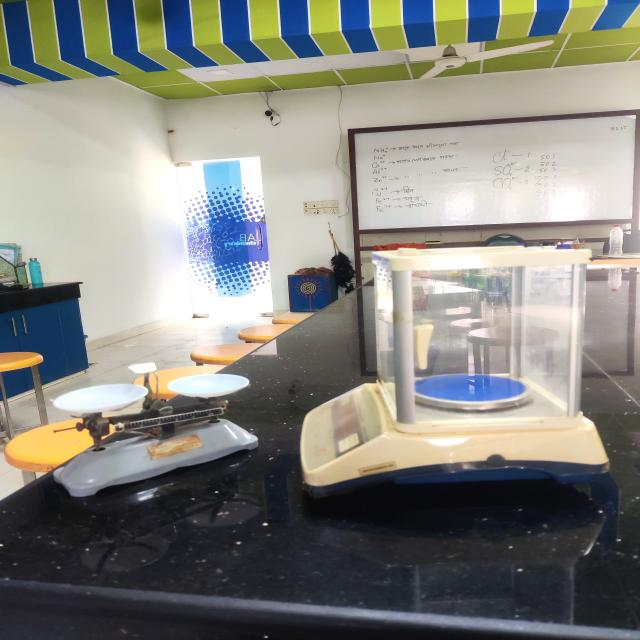Mechanical_Balance_Scale: (30, 338, 267, 536)
Precision_Weight_Scale: (290, 222, 629, 534)
